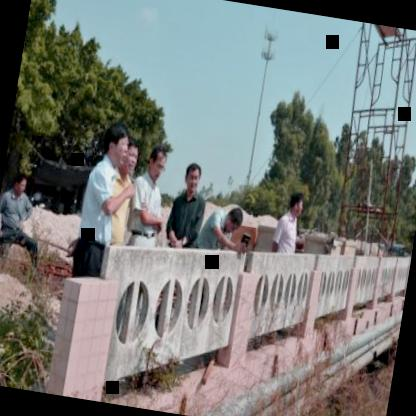head: (151, 268, 181, 342), (100, 118, 134, 170), (220, 198, 247, 240), (144, 142, 170, 184), (180, 158, 205, 194), (120, 138, 141, 174), (288, 186, 307, 218), (10, 169, 28, 196)
